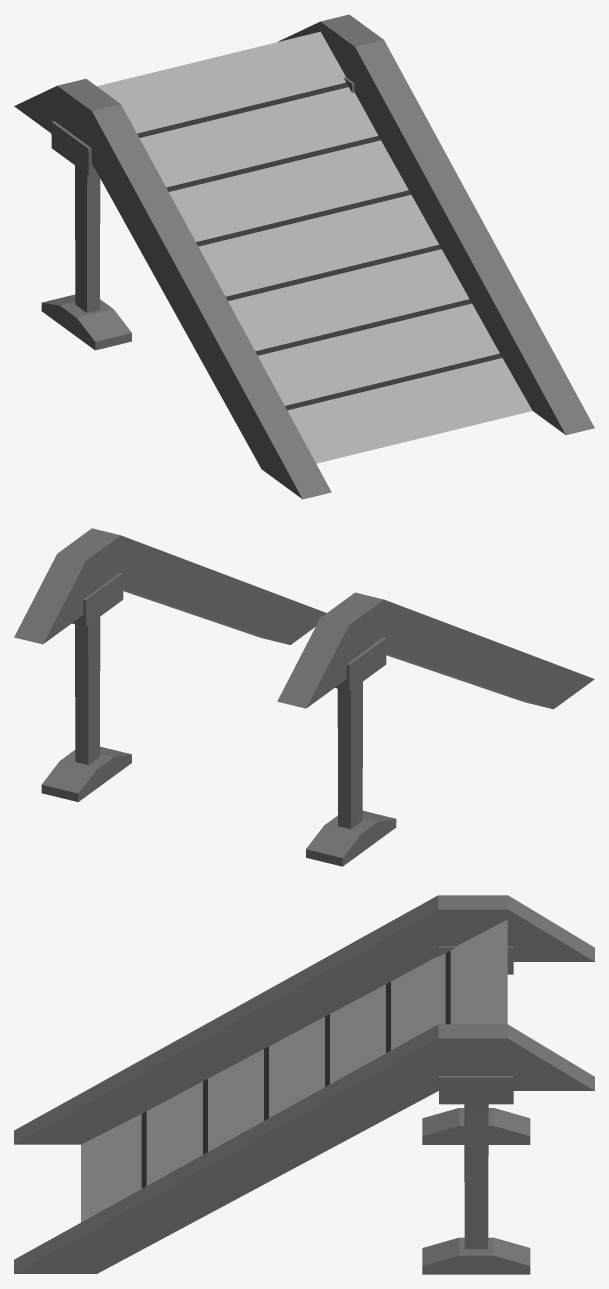
Rendered from Ramp.glb.
3 views of the same model, one above another, from view 1: azimuth 30°, elevation 25°; view 2: azimuth 150°, elevation 25°; view 3: azimuth 270°, elevation 25° (orthographic).
Parts seen in each view (by area): view 1: Ramp; view 2: Ramp; view 3: Ramp.
Part boxes in pixels (bbox=[...]): Ramp: bbox=[14, 14, 594, 499]; Ramp: bbox=[14, 528, 594, 866]; Ramp: bbox=[14, 895, 594, 1274].
Size of the model in its own units: 1.87 by 1.39 by 3.11.
Materials: 1 (1 with a texture image).
